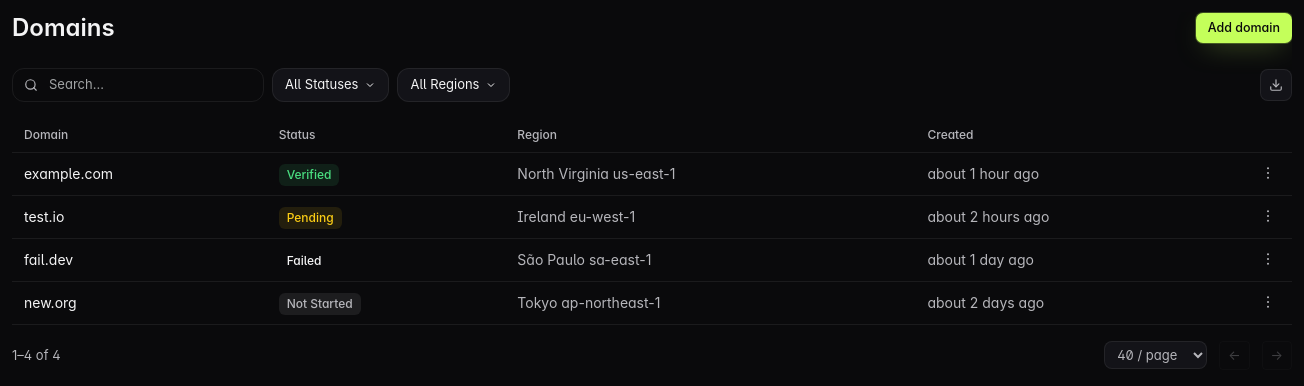
Domains Page › filters domains by search input
The width and height of the screenshot is (1304, 386).
Type "example" into the field with placeholder "Search..." at (138,85), box [12, 68, 264, 102]
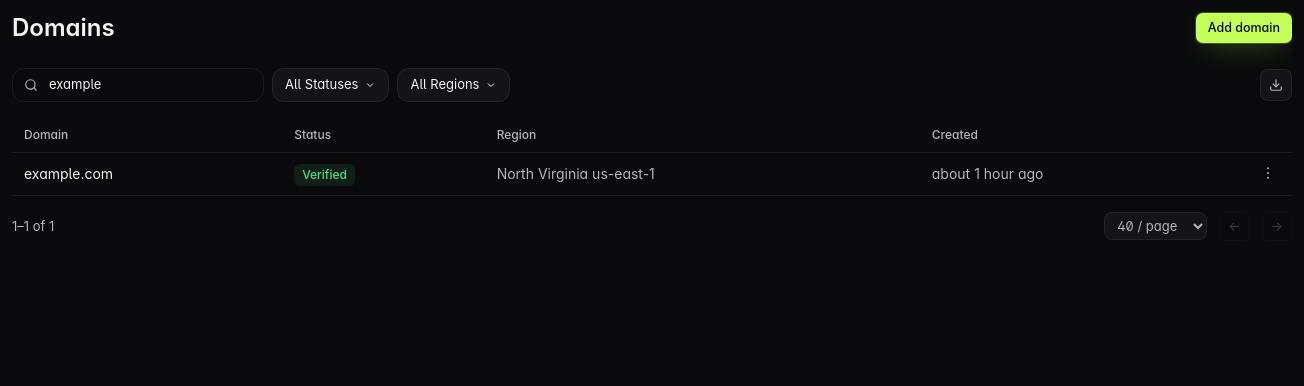
Expected: the link "example.com" is shown, [24, 165, 113, 182]
Now the link "test.io" is gone
